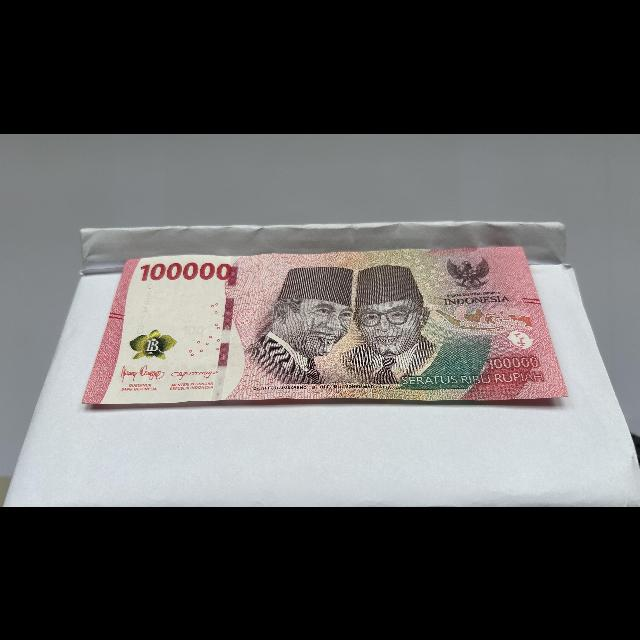Asli-100k: (77, 242, 572, 404)
Tinta-Asli-100k: (125, 326, 181, 362)
